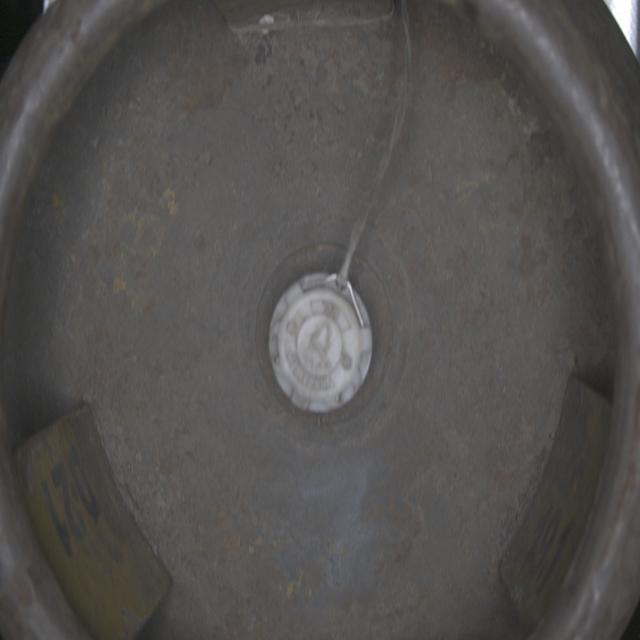Cap: (267, 270, 375, 416)
